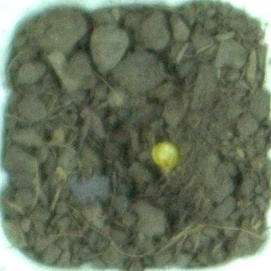pepper seed: (58, 54, 241, 229)
